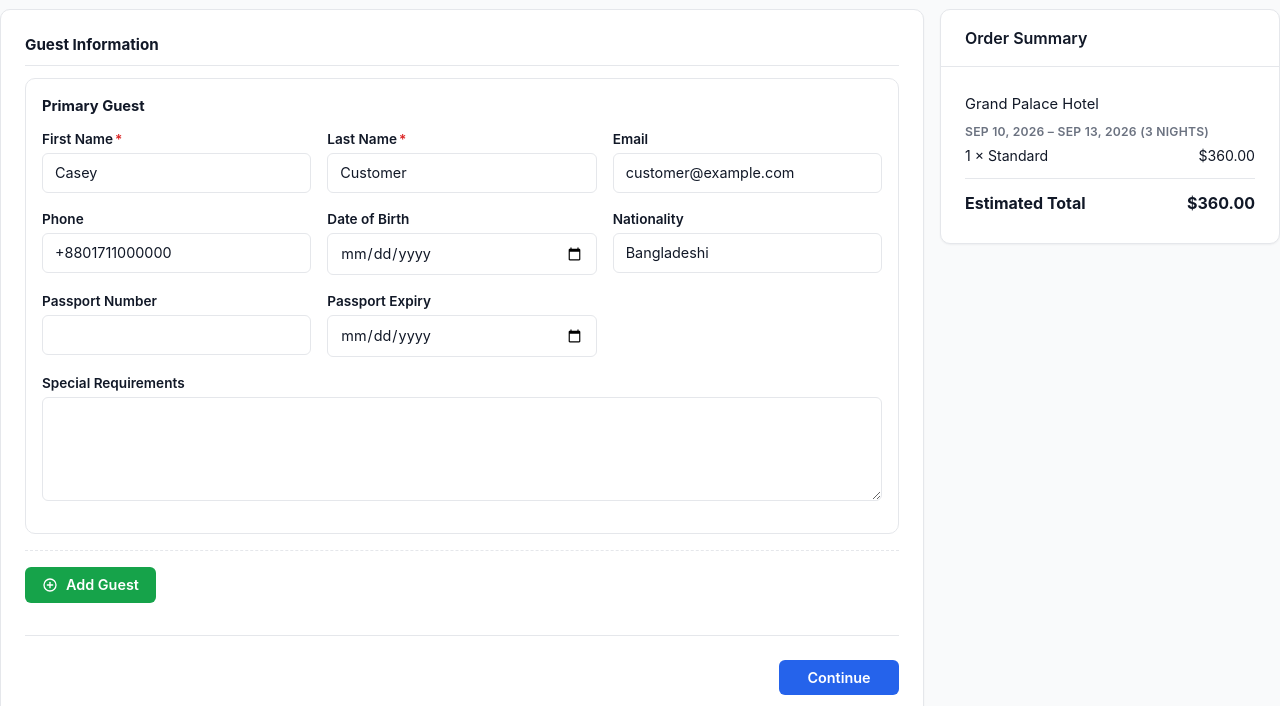
Test: Checkout › lets the guest add and remove additional guests
(page scrolled)
Expected: the field labelled "First Name*" holds "Casey", [42,153,311,193]
Click the button "Add Guest" at (90, 585), box [25,568,156,603]
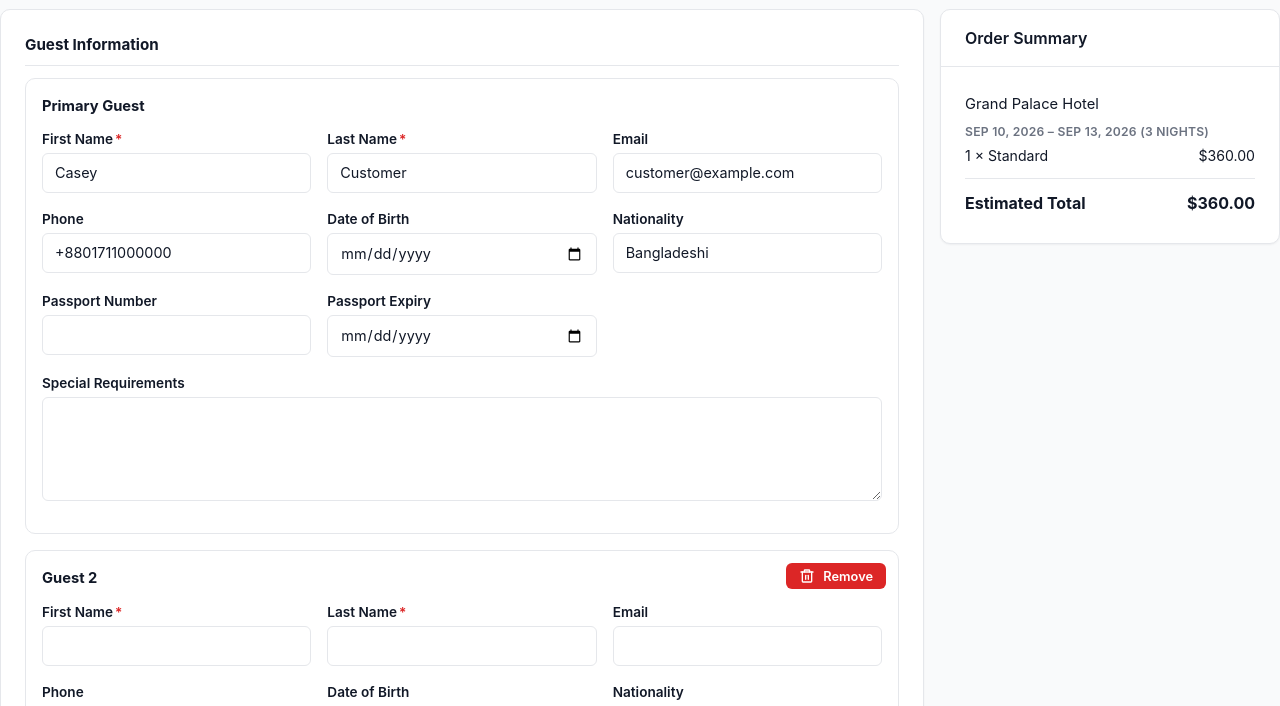
Now the heading "Guest 2" is shown, box [42,570,97,588]
Click the button "Remove" at (836, 576), box [786,564,886,590]
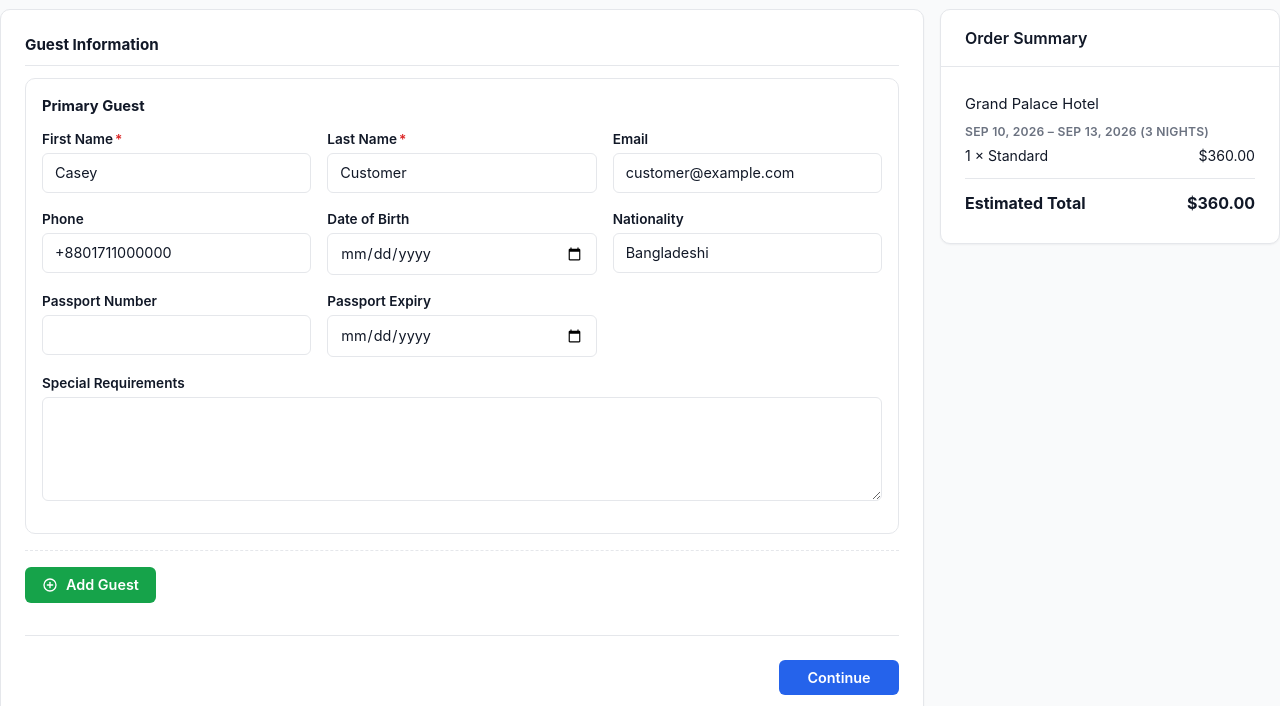
Now the heading "Guest 2" is gone
